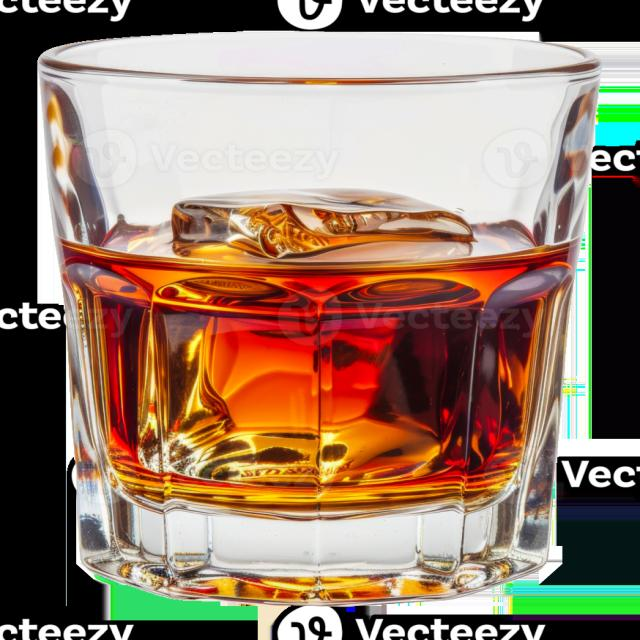Cup: (26, 29, 608, 599)
